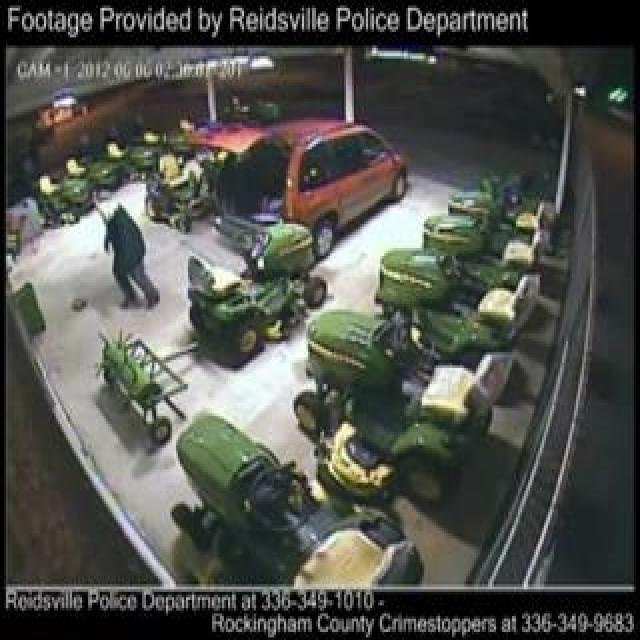thief: (87, 185, 164, 324)
